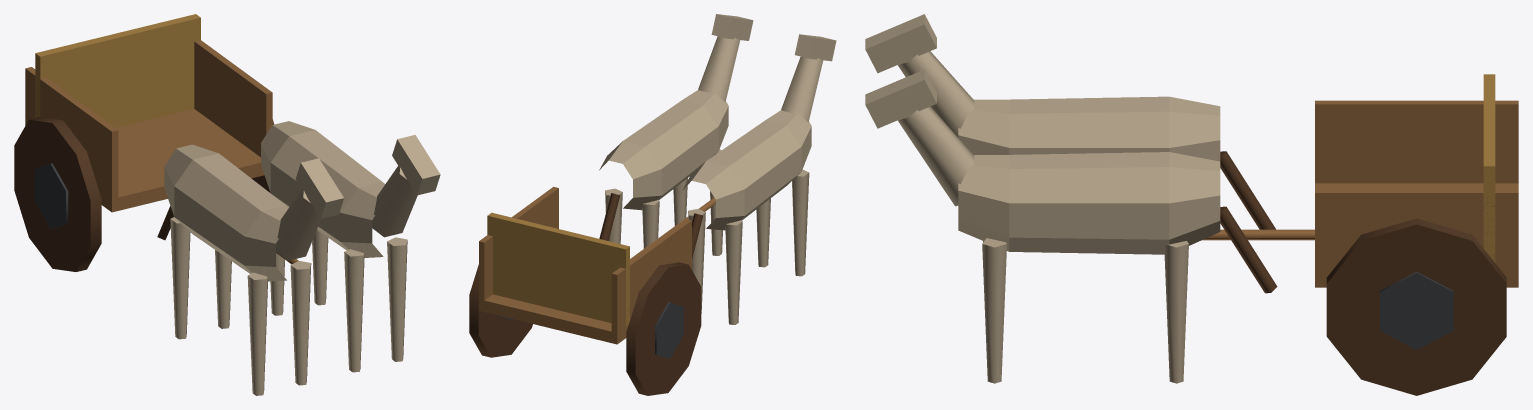
File: veh_ground_chariot_a02.glb
3 views of the same model, side by side, from view 1: azimuth 30°, elevation 25°; view 2: azimuth 150°, elevation 25°; view 3: azimuth 270°, elevation 25° (orthographic). The views are drawn at different scales.
Parts seen in each view (by area): view 1: body, animal_0, animal_1, wheel_0; view 2: body, animal_0, animal_1, wheel_0, wheel_1; view 3: animal_1, body, wheel_1, animal_0.
Boxes of the visible parts, x1,y1,x2,y2 form: body: (25, 14, 298, 264); animal_0: (157, 144, 343, 395); animal_1: (261, 121, 440, 372); wheel_0: (14, 117, 101, 271); body: (479, 186, 715, 344); animal_0: (682, 34, 836, 324); animal_1: (599, 14, 753, 255); wheel_0: (626, 262, 701, 395); wheel_1: (469, 264, 532, 357); animal_1: (865, 69, 1277, 383); body: (1202, 74, 1518, 287); wheel_1: (1326, 218, 1506, 395); animal_0: (865, 14, 1275, 229).
Size of what is drawn, in the model's own units: 1.84 by 2.23 by 4.49.
